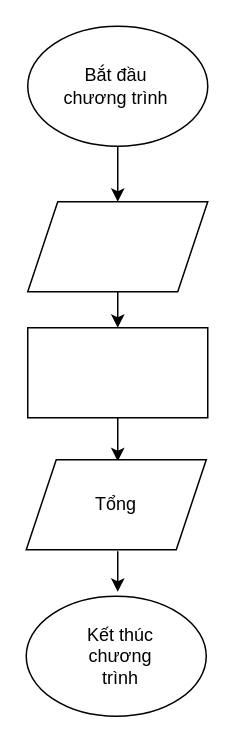
The diagram is 234 pixels wide and 743 high, and some of its shapes have lost their labels. The shapes that lost their labels are listed below. From the top down, each one's centre as x and y in pixels, then its label:
At (x=117, y=246): "a, b, tổng".
At (x=117, y=372): "Gắn tổng = a+b".
